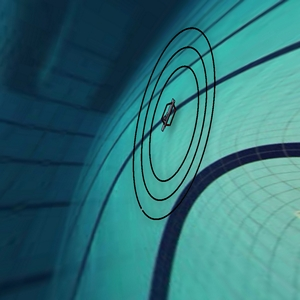circle: (111, 14, 240, 241)
submarine: (157, 97, 183, 137)
